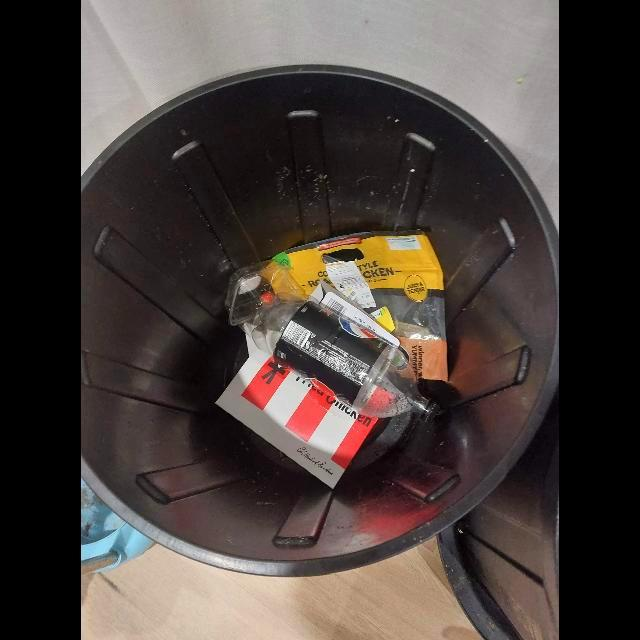cardboard: (216, 335, 378, 489)
food_wrapper: (273, 230, 449, 383)
paper: (326, 261, 376, 309)
plastic_bottle: (251, 292, 440, 422)
